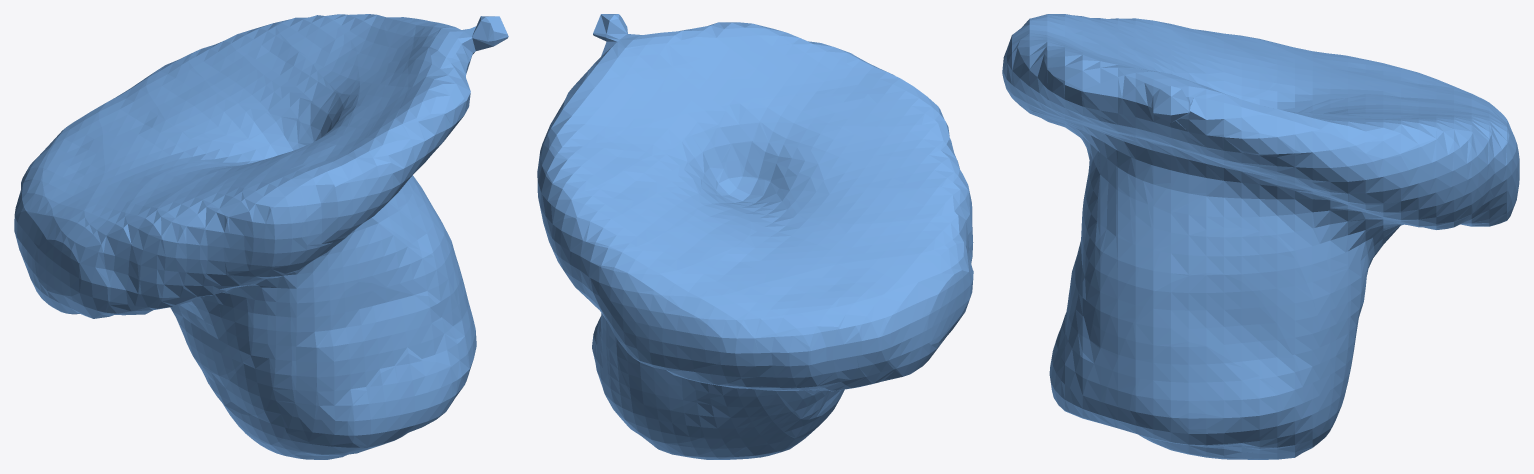
Rendered from water_0013.glb.
The picture shows the model from 3 angles, left to right: view 1: azimuth 30°, elevation 25°; view 2: azimuth 150°, elevation 25°; view 3: azimuth 270°, elevation 25°; orthographic projection. The views are drawn at different scales.
Parts seen in each view (by area): view 1: Water_0013; view 2: Water_0013; view 3: Water_0013.
Boxes of the visible parts, x1=… form: Water_0013: x1=14, y1=14, x2=508, y2=459; Water_0013: x1=537, y1=14, x2=973, y2=459; Water_0013: x1=1002, y1=14, x2=1519, y2=459.
Size of the model in its own units: 1.72 by 1.59 by 1.71.
